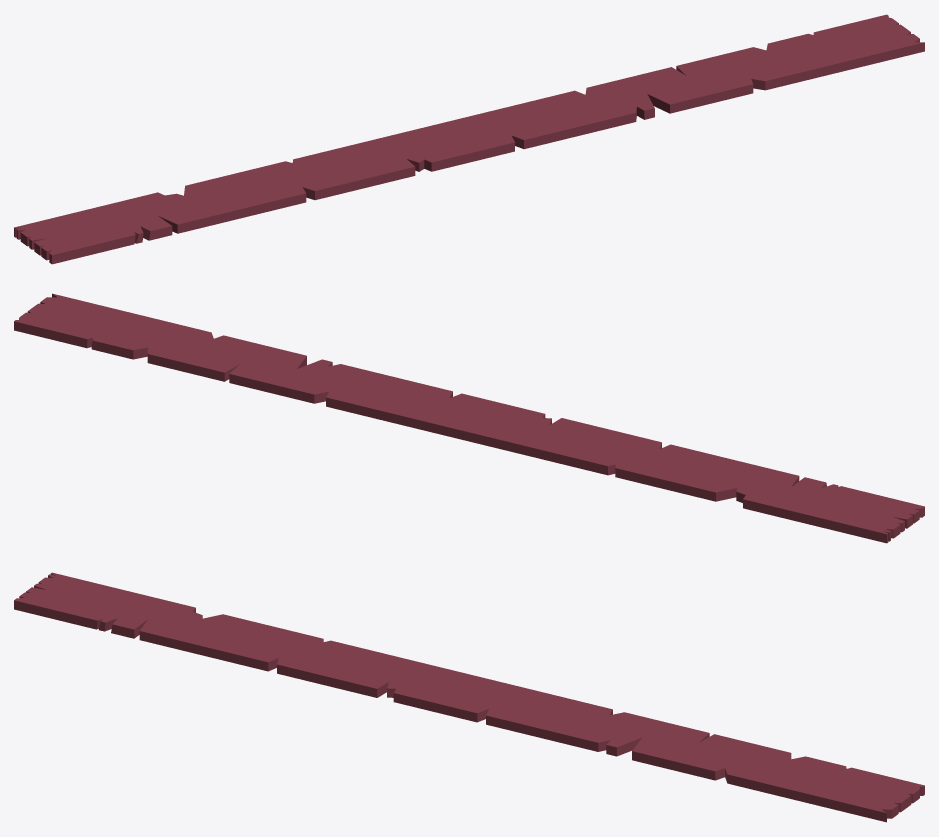
The model's file is PROJECT DREAM - Long Plank.fbx.
The picture shows the model from 3 angles, top to bottom: view 1: azimuth 30°, elevation 25°; view 2: azimuth 150°, elevation 25°; view 3: azimuth 330°, elevation 25°; orthographic projection.
Visible parts, largest first — view 1: Very Long Plank; view 2: Very Long Plank; view 3: Very Long Plank.
Part boxes in pixels (x1,y1,x2,y2): Very Long Plank: [14, 14, 924, 264]; Very Long Plank: [14, 293, 924, 543]; Very Long Plank: [14, 572, 924, 822].
Bounding box in the file's own units: 1990 × 20 × 150.
